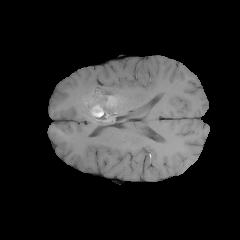glioma: (69, 78, 127, 125)
